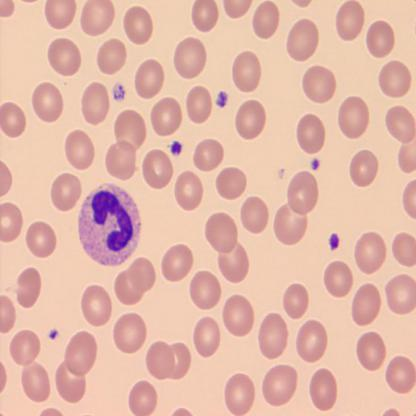Band Neutrophil: (77, 180, 141, 269)
